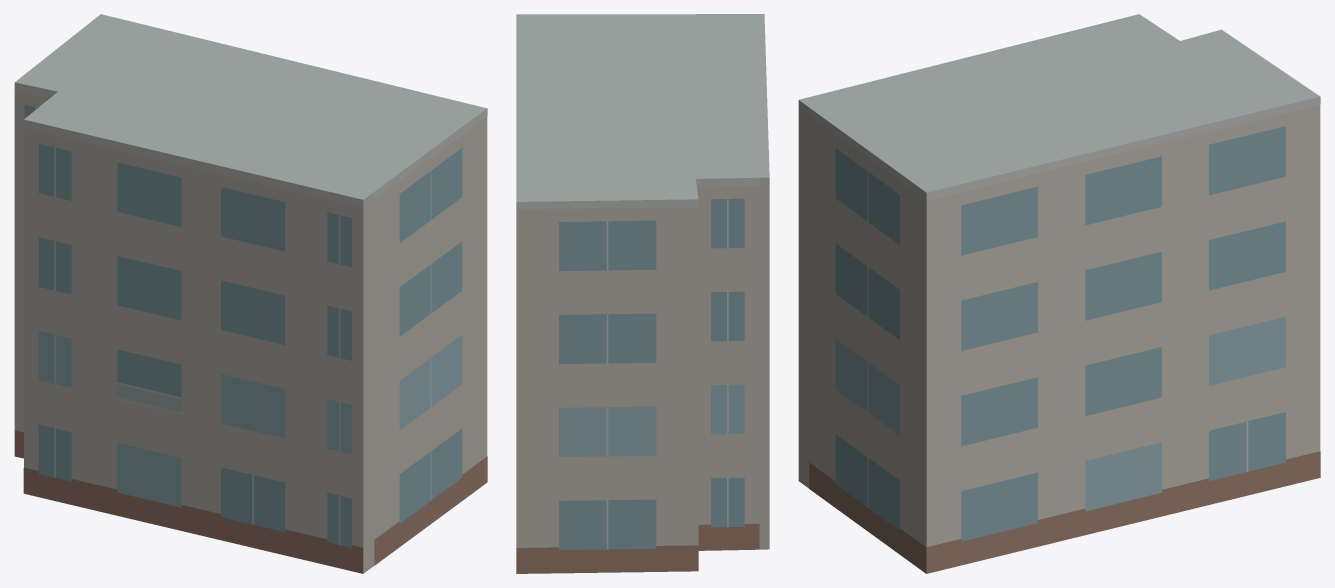
File: survey-upis-32724256.glb
The picture shows the model from 3 angles, left to right: view 1: azimuth 30°, elevation 25°; view 2: azimuth 150°, elevation 25°; view 3: azimuth 270°, elevation 25°; orthographic projection. The views are drawn at different scales.
Parts seen in each view (by area): view 1: survey-upis-32724256.tmp; view 2: survey-upis-32724256.tmp; view 3: survey-upis-32724256.tmp.
Boxes of the visible parts, <box> form: survey-upis-32724256.tmp: <box>14,14,487,573</box>; survey-upis-32724256.tmp: <box>516,14,769,573</box>; survey-upis-32724256.tmp: <box>798,14,1320,573</box>.
Size of the model in its own units: 11.51 by 11.45 by 14.21.
